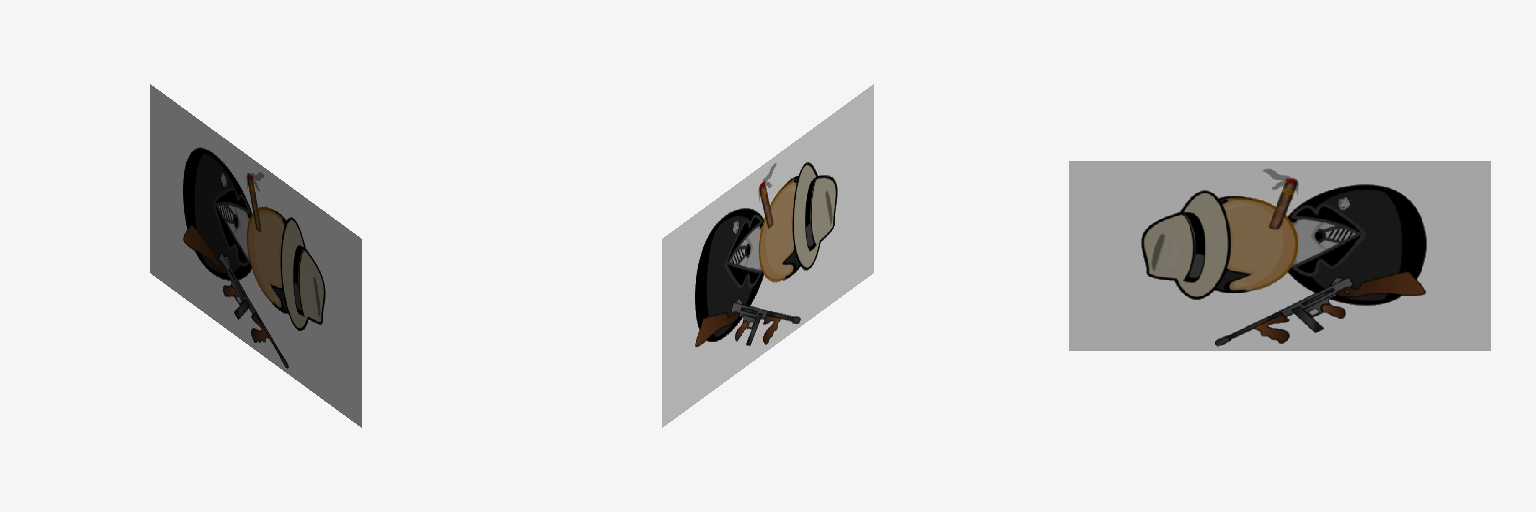
The picture shows the model from 3 angles: view 1: azimuth 30°, elevation 25°; view 2: azimuth 150°, elevation 25°; view 3: azimuth 270°, elevation 25°; orthographic projection.
Parts seen in each view (by area): view 1: Plane; view 2: Plane; view 3: Plane.
Boxes of the visible parts, <box> form: Plane: <box>150,84,361,427</box>; Plane: <box>662,84,873,427</box>; Plane: <box>1069,161,1490,350</box>.
Bounding box in the file's own units: 0 × 0.609 × 1.23.
Materials: 1 (1 with a texture image).